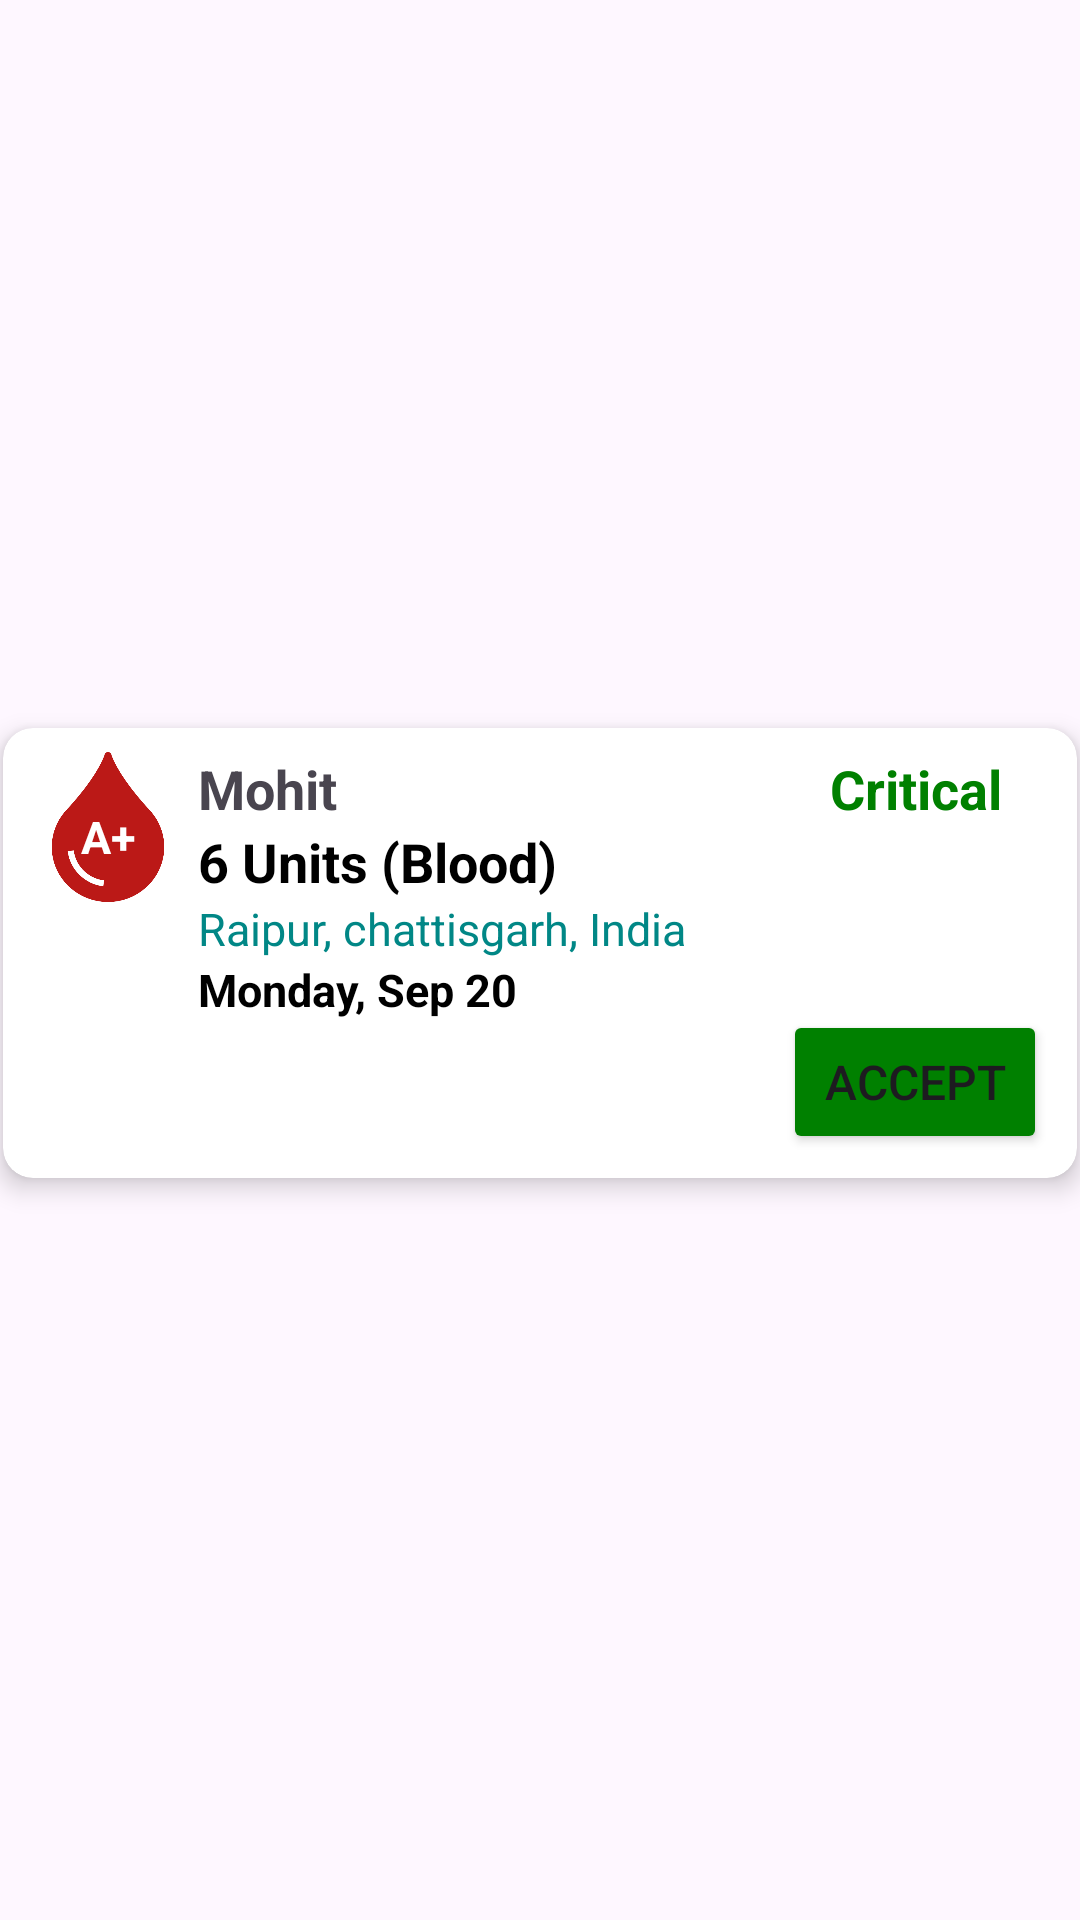

Named icons in this screenshot (1080 × 1920) and their centers, [x,y]:
drop: [108,827]
